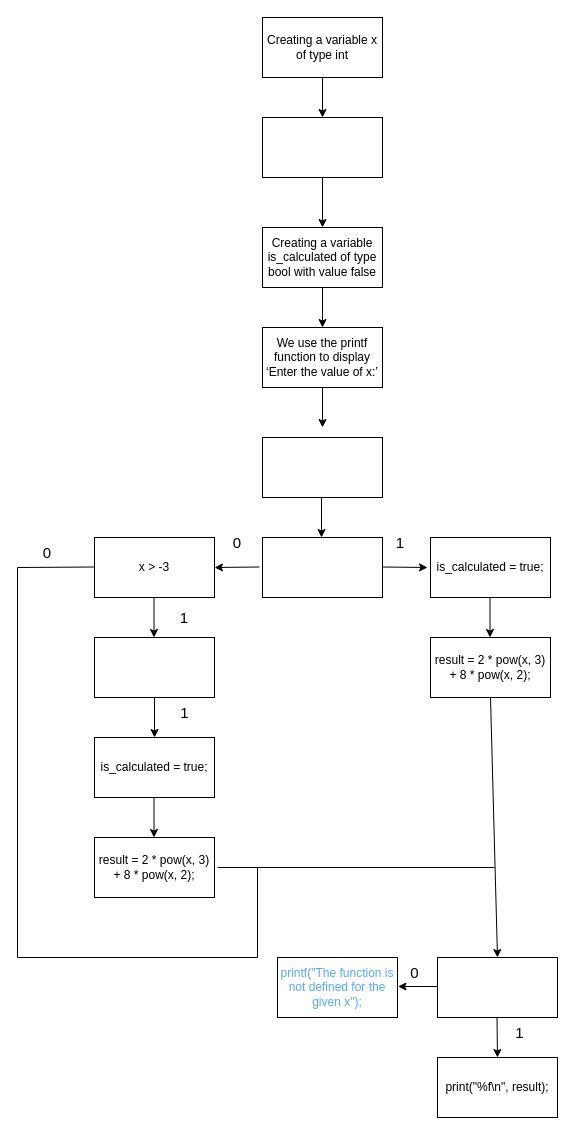
This 575x1135 diagram has some shape labels left out. Here are the shapes that lost their labels. From the top down, the centre of each, then its label:
At pixel 322 147: "Creating a variable result of type double with value 0".
At pixel 322 467: "Input X".
At pixel 322 567: "x < -19".
At pixel 154 667: "x <= 0".
At pixel 497 987: "is_calculated".
